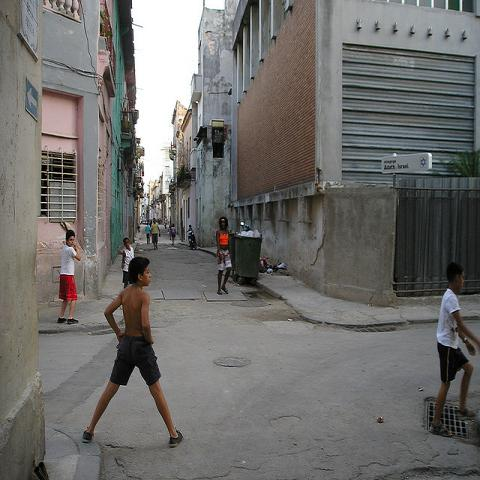motorcycle: (187, 229, 197, 250)
